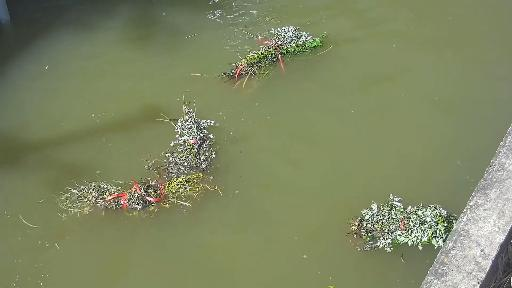twig: (210, 24, 334, 93), (57, 174, 226, 219), (350, 192, 459, 252), (147, 98, 225, 176)
